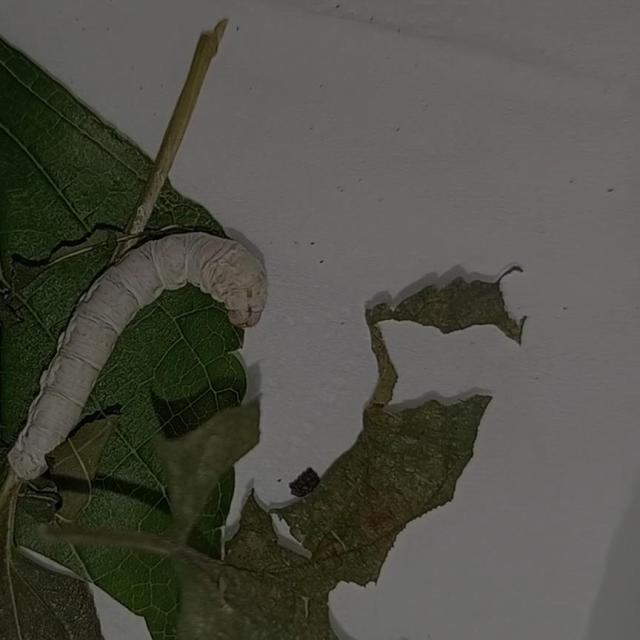Healthy: (0, 212, 288, 489)
